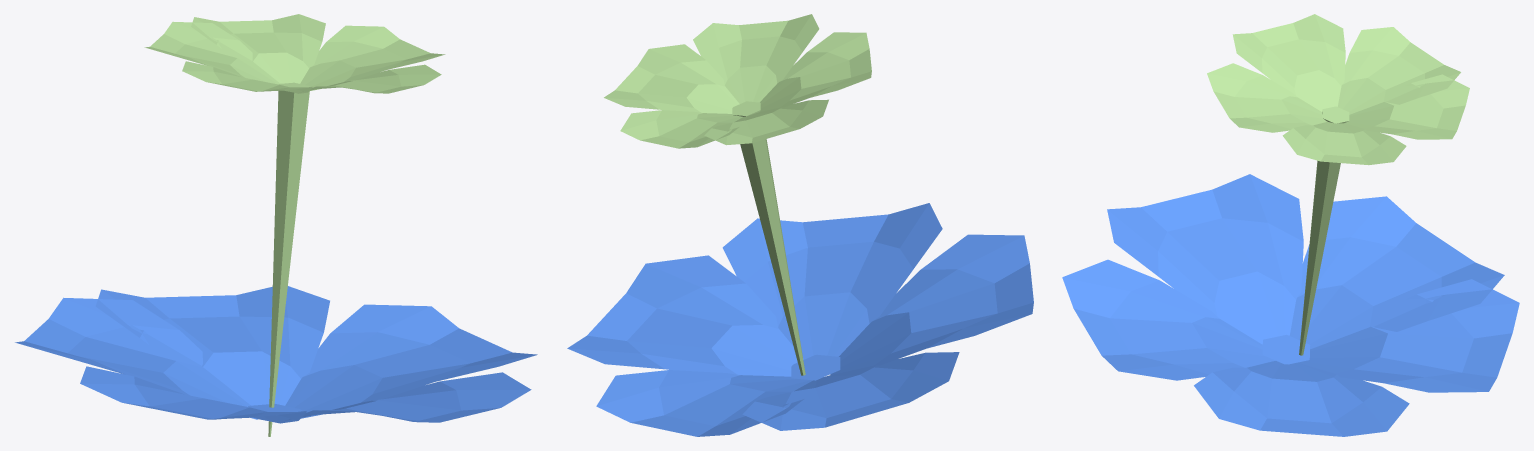
Rendered from flower.fbx.
The picture shows the model from 3 angles, left to right: view 1: azimuth 30°, elevation 25°; view 2: azimuth 150°, elevation 25°; view 3: azimuth 270°, elevation 25°; orthographic projection. The views are drawn at different scales.
Visible parts, largest first — view 1: flower; view 2: flower; view 3: flower.
Part boxes in pixels (x1,y1,x2,y2): flower: [15, 14, 537, 436]; flower: [567, 14, 1033, 436]; flower: [1062, 14, 1519, 436].
Size of the model in its own units: 79.57 by 65.52 by 81.98.
